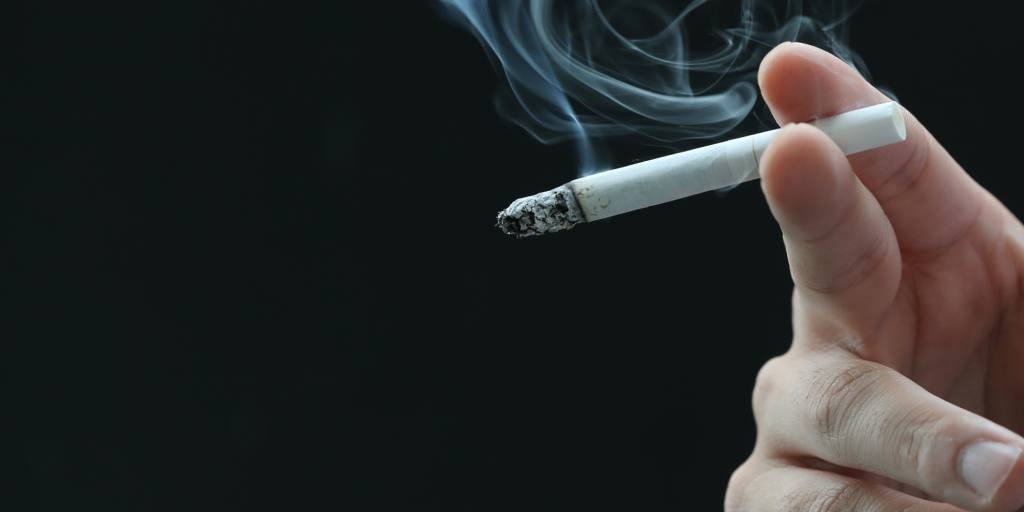sigaretta: (460, 94, 938, 242)
